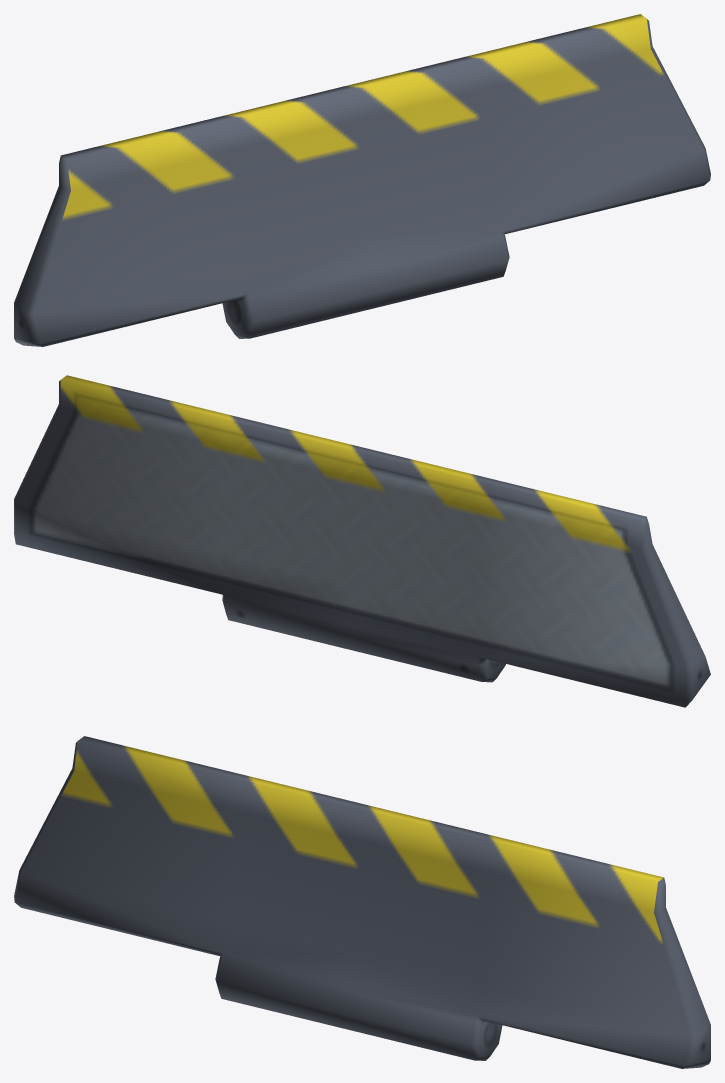
The model's file is Elevator_platform_flap.fbx.
The picture shows the model from 3 angles, top to bottom: view 1: azimuth 30°, elevation 25°; view 2: azimuth 150°, elevation 25°; view 3: azimuth 330°, elevation 25°; orthographic projection.
Visible parts, largest first — view 1: Elevator_platform_flap; view 2: Elevator_platform_flap; view 3: Elevator_platform_flap.
Part boxes in pixels (left/top/right/bottom): Elevator_platform_flap: left=14, top=14, right=710, bottom=346; Elevator_platform_flap: left=14, top=375, right=710, bottom=707; Elevator_platform_flap: left=14, top=736, right=710, bottom=1068.
Size of the model in its own units: 103 by 30.63 by 8.01.
1 material, 1 textured.
